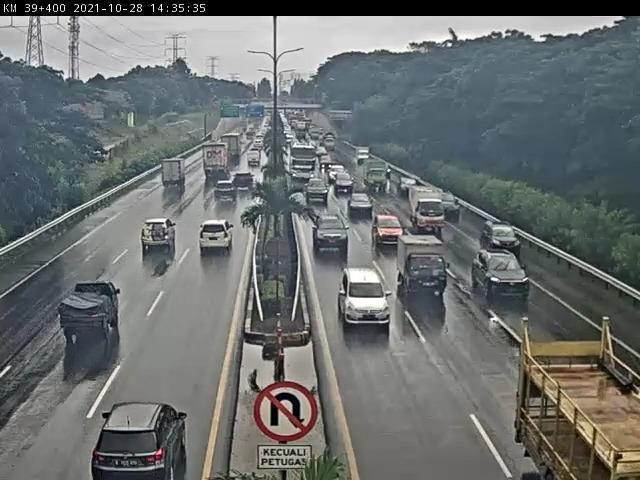car: (91, 403, 192, 480), (59, 283, 124, 345), (395, 235, 451, 300), (342, 267, 396, 332), (473, 249, 529, 293), (197, 217, 239, 258), (141, 218, 178, 249), (315, 210, 347, 244), (486, 222, 520, 250), (374, 212, 401, 239), (213, 184, 238, 207), (349, 192, 373, 214), (303, 175, 328, 195), (233, 174, 253, 192), (437, 194, 453, 214), (245, 153, 262, 171), (333, 173, 350, 191), (355, 147, 371, 164), (401, 178, 418, 193), (326, 164, 341, 175), (253, 142, 265, 153)
truck: (518, 338, 640, 480), (409, 184, 442, 226), (289, 141, 318, 177), (202, 144, 229, 179), (362, 160, 386, 190), (165, 161, 190, 189), (221, 134, 242, 161)
